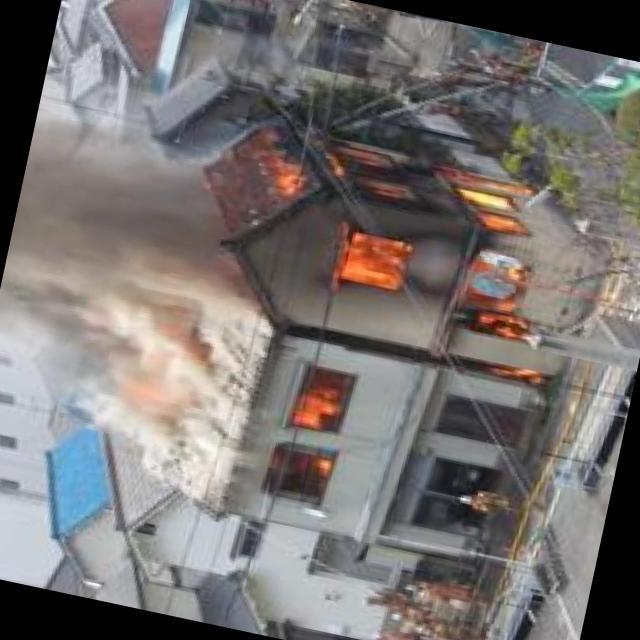Fire: (207, 120, 583, 368), (270, 358, 353, 503)
